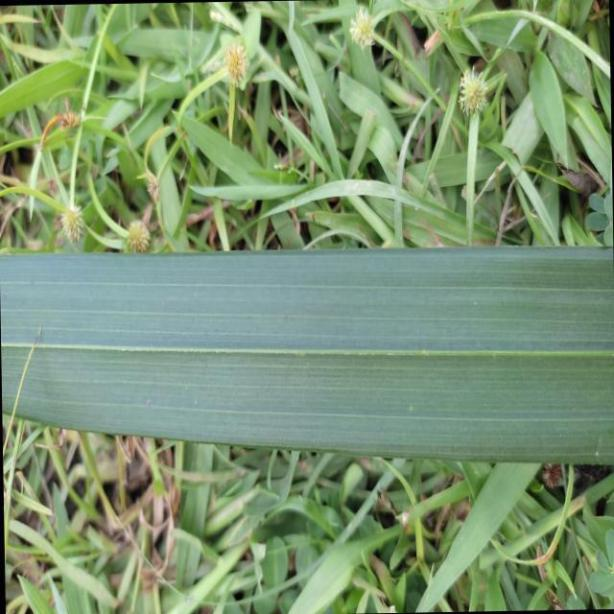Healthy: (1, 244, 614, 463)
